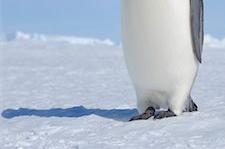Emperor Penguin: (111, 0, 225, 126)
